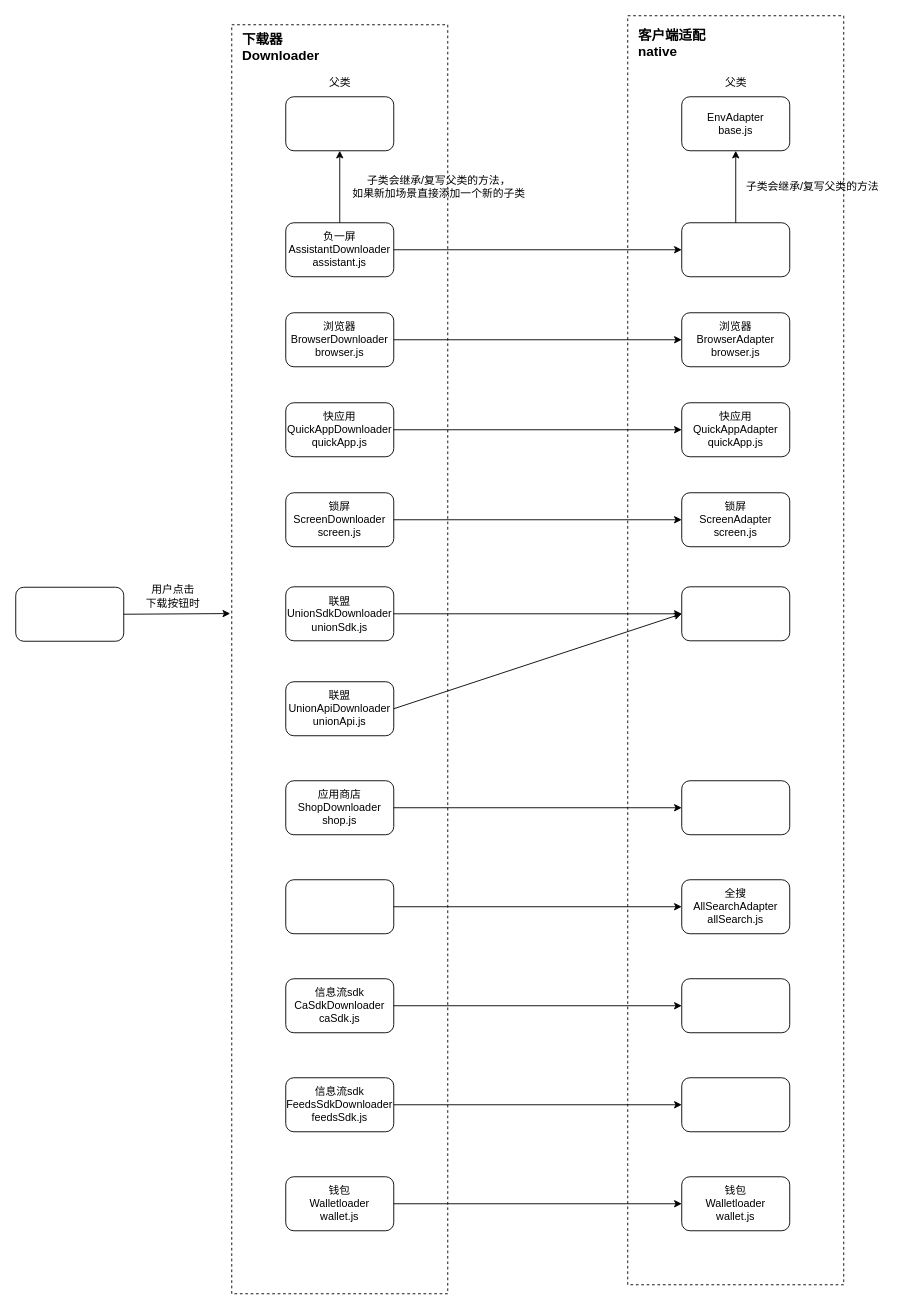
The diagram is 905 pixels wide and 1310 high, and some of its shapes have lost their labels. Here are the shapes that lost their labels. From the top down, the box of each, then its label:
(285, 96, 394, 151): AppDownloader base.js
(681, 222, 790, 277): 负一屏 AssistantAdapter assistant.js
(15, 586, 124, 641): 下载按钮
(681, 586, 790, 641): 联盟 UnionSdkAdapter unionSdk.js
(681, 780, 790, 835): window.android
(285, 879, 394, 934): 全搜 AllSearchDownloader allSearch.js
(681, 978, 790, 1033): 信息流sdk CaSdkAdapter caSdk.js
(681, 1077, 790, 1132): 信息流sdk FeedsSdkAdapter feedsSdk.js
